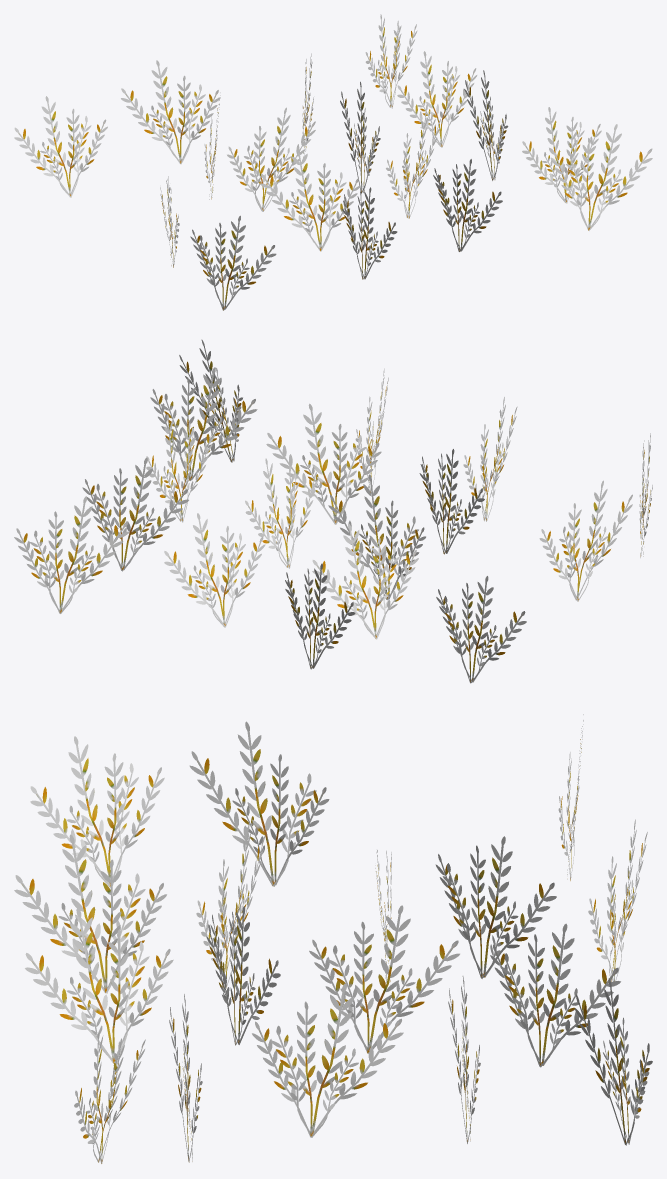
File: wheat_stage2.fbx
The picture shows the model from 3 angles, top to bottom: view 1: azimuth 30°, elevation 25°; view 2: azimuth 150°, elevation 25°; view 3: azimuth 270°, elevation 25°; orthographic projection. The views are drawn at different scales.
Parts seen in each view (by area): view 1: Wheat_stage2; view 2: Wheat_stage2; view 3: Wheat_stage2.
Boxes of the visible parts, x1,y1,x2,y2 form: Wheat_stage2: (14, 14, 652, 310); Wheat_stage2: (14, 339, 652, 683); Wheat_stage2: (14, 714, 652, 1163).
Bounding box in the file's own units: 264 × 63.32 × 205.
